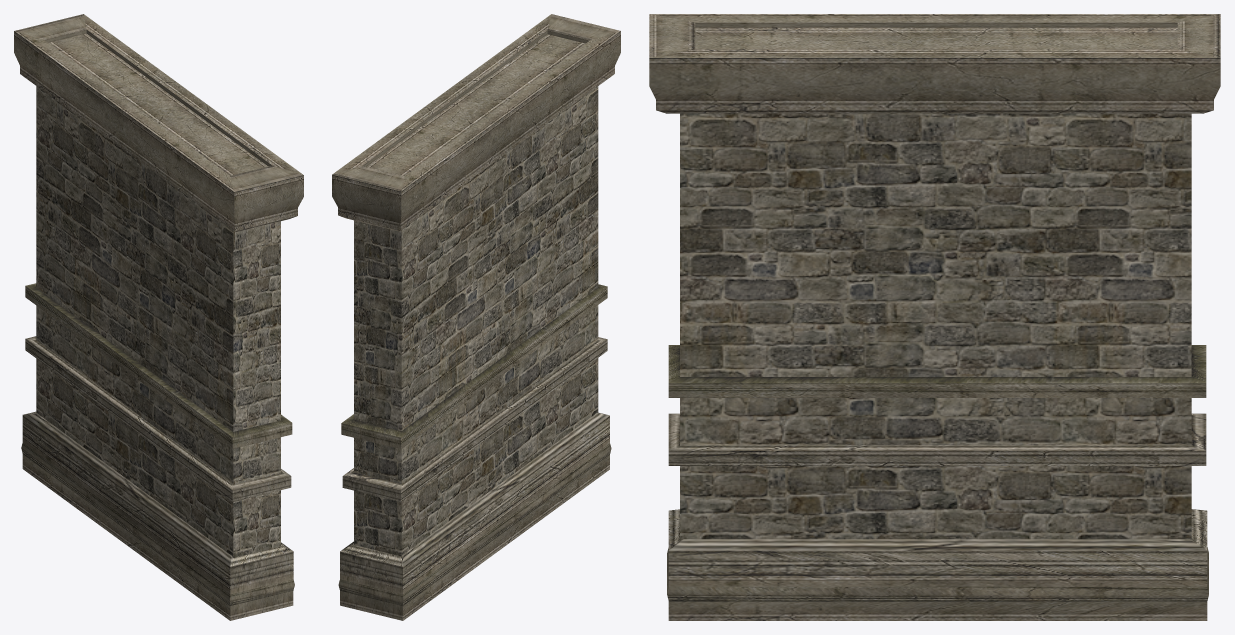
File: SM_Plains_Wall_Straight_01.FBX
The picture shows the model from 3 angles, left to right: view 1: azimuth 30°, elevation 25°; view 2: azimuth 150°, elevation 25°; view 3: azimuth 270°, elevation 25°; orthographic projection. The views are drawn at different scales.
Parts seen in each view (by area): view 1: SM_Plains_Wall_Straight_01b, SM_Plains_Wall_Straight_01a; view 2: SM_Plains_Wall_Straight_01b, SM_Plains_Wall_Straight_01a; view 3: SM_Plains_Wall_Straight_01b, SM_Plains_Wall_Straight_01a.
Boxes of the visible parts, x1,y1,x2,y2 form: SM_Plains_Wall_Straight_01b: (36, 86, 280, 557); SM_Plains_Wall_Straight_01a: (14, 14, 303, 620); SM_Plains_Wall_Straight_01b: (354, 86, 598, 556); SM_Plains_Wall_Straight_01a: (332, 14, 620, 620); SM_Plains_Wall_Straight_01b: (680, 113, 1191, 540); SM_Plains_Wall_Straight_01a: (649, 14, 1220, 620).
Size of the model in its own units: 41.15 by 246 by 225.
